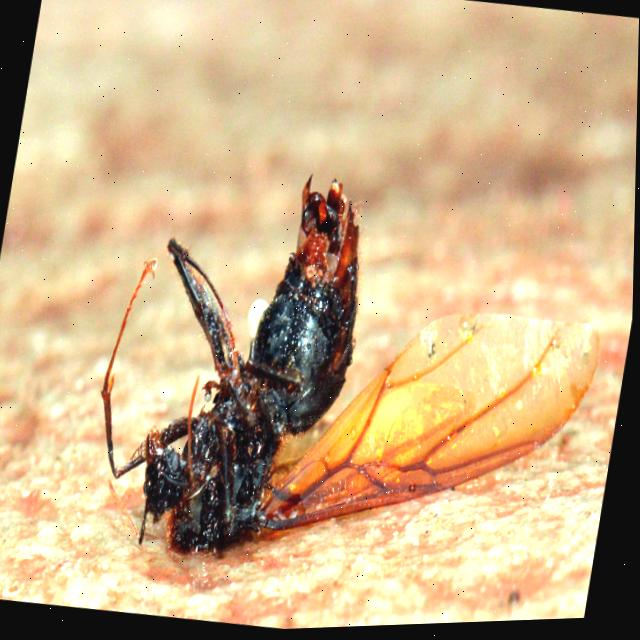Dead-Male-Alate: (78, 144, 626, 617)
